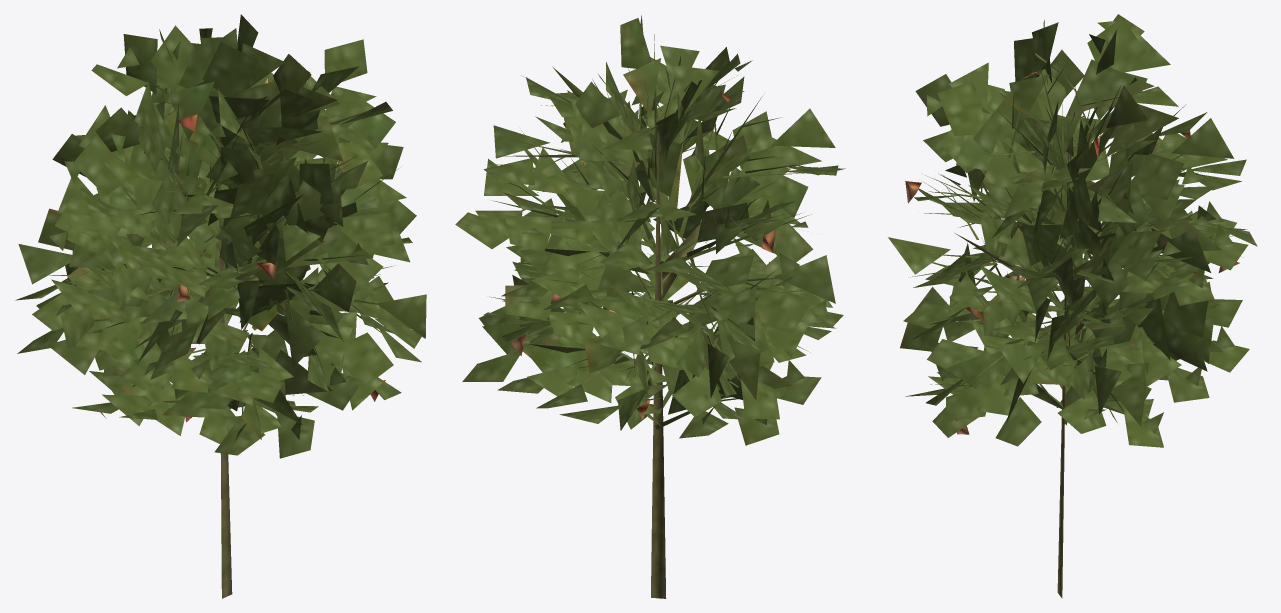
File: Fruit_tree.glb
The picture shows the model from 3 angles, left to right: view 1: azimuth 30°, elevation 25°; view 2: azimuth 150°, elevation 25°; view 3: azimuth 270°, elevation 25°; orthographic projection.
Parts seen in each view (by area): view 1: Obj3d66-12930950-2-182; view 2: Obj3d66-12930950-2-182; view 3: Obj3d66-12930950-2-182.
Boxes of the visible parts, x1,y1,x2,y2 form: Obj3d66-12930950-2-182: [15, 14, 426, 598]; Obj3d66-12930950-2-182: [455, 15, 845, 598]; Obj3d66-12930950-2-182: [888, 14, 1257, 598].
Bounding box in the file's own units: 0.9328 × 1.41 × 0.8659.
Materials: 1 (1 with a texture image).
